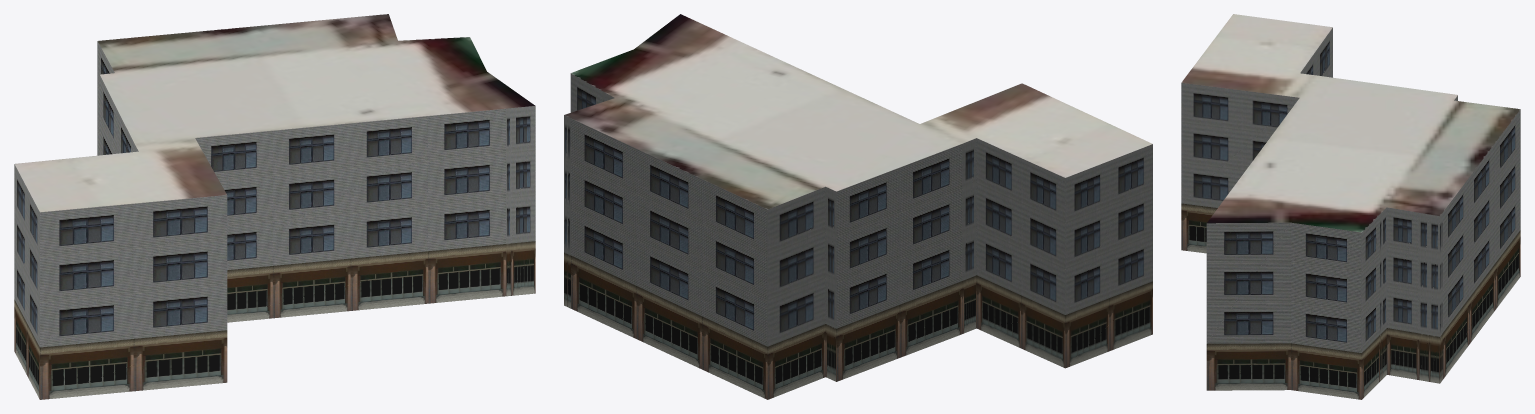
The model's file is T_1T90W4PFVH.dae.
3 renders of one model, left to right at view 1: azimuth 30°, elevation 25°; view 2: azimuth 150°, elevation 25°; view 3: azimuth 270°, elevation 25°, orthographic. The views are drawn at different scales.
Parts seen in each view (by area): view 1: SketchUp (×13); view 2: SketchUp (×20); view 3: SketchUp (×19).
Part boxes in pixels (<box>): SketchUp (×13): <box>14,14,535,399</box>; SketchUp (×20): <box>564,14,1152,399</box>; SketchUp (×19): <box>1181,14,1520,399</box>.
Bounding box in the file's own units: 33.03 × 21.68 × 11.8.
3 materials, 3 textured.
